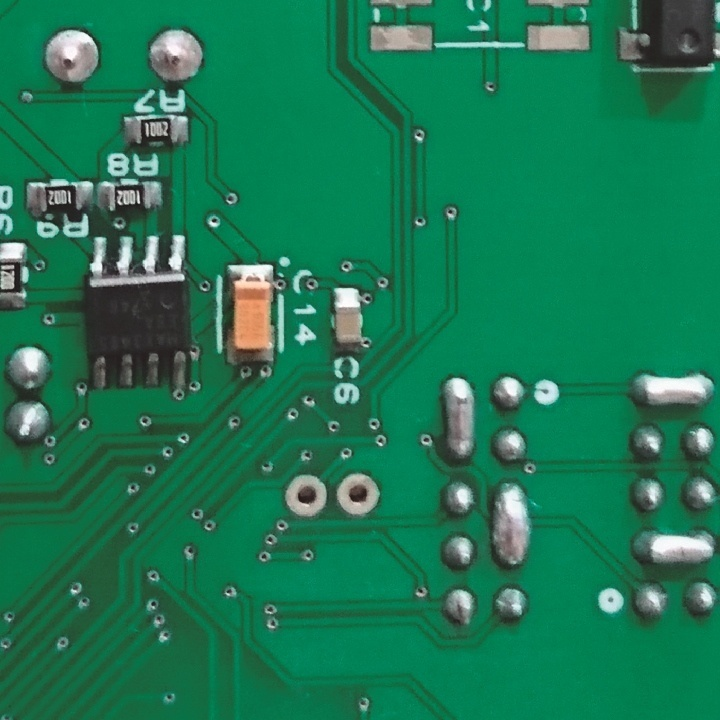F: (33, 23, 102, 92), (147, 24, 203, 86), (334, 471, 383, 518), (281, 472, 330, 516)
P: (489, 477, 536, 573), (626, 525, 719, 571), (628, 368, 720, 414), (439, 374, 476, 464)
